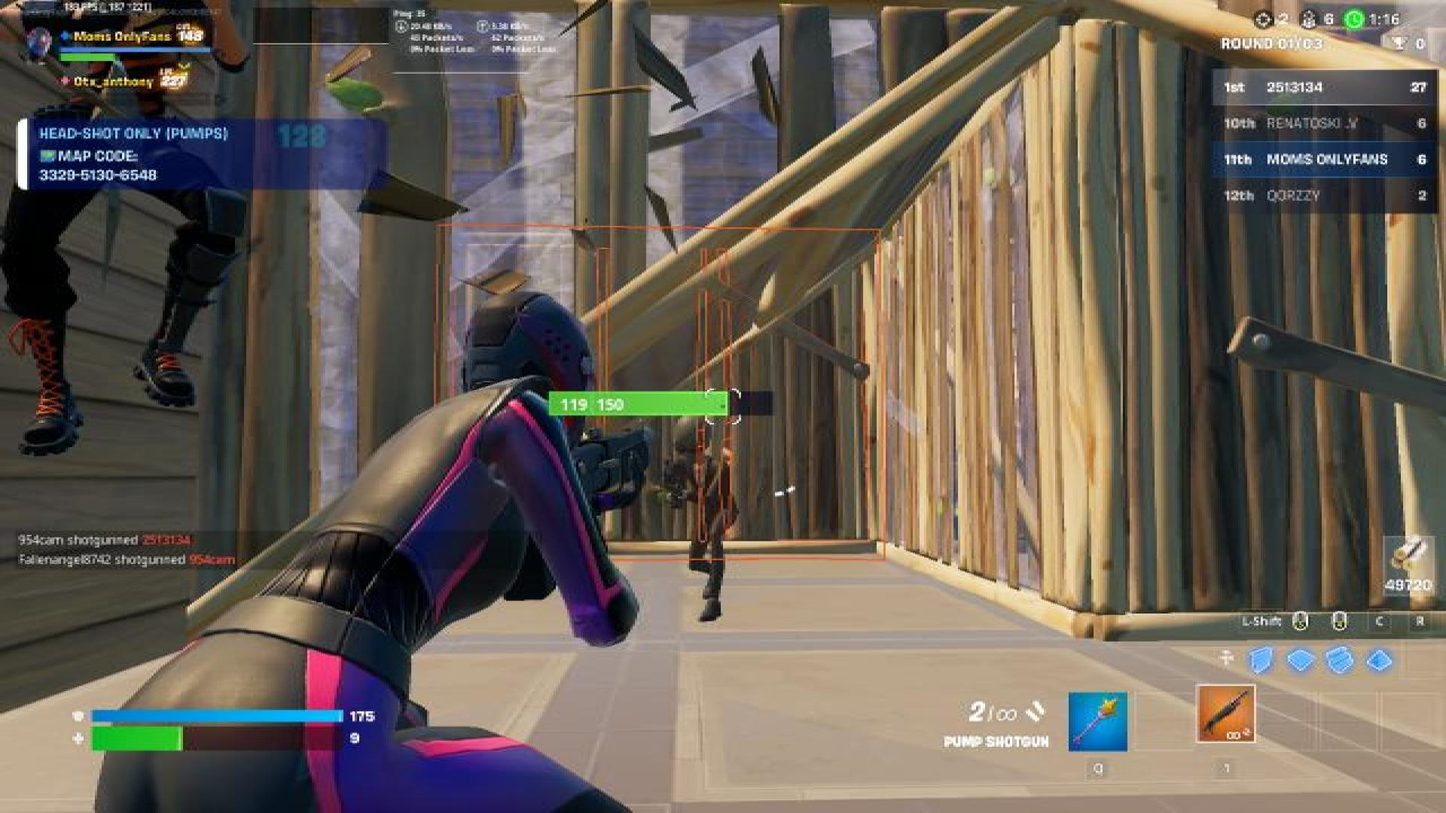player: (6, 3, 270, 454), (652, 407, 756, 623)
